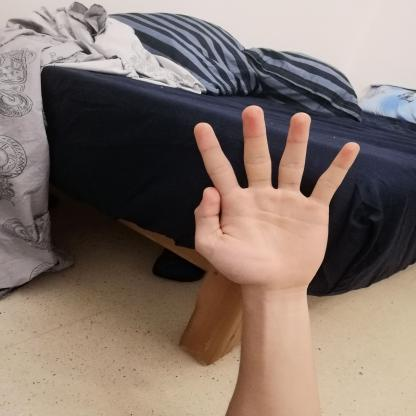SHEEN: (176, 99, 370, 298)
